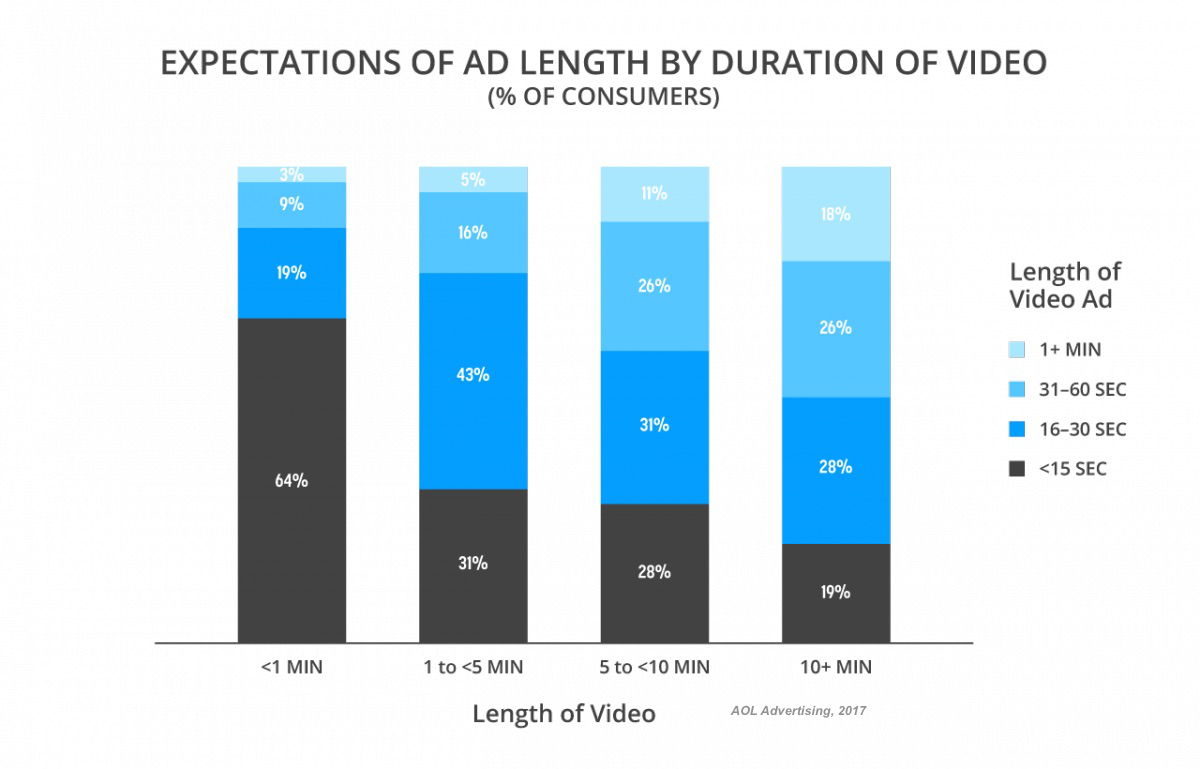latin: (158, 42, 1048, 79), (1038, 339, 1129, 440), (1007, 259, 1126, 311), (470, 702, 657, 730), (520, 85, 712, 106), (729, 702, 867, 718), (1050, 457, 1108, 478), (673, 657, 712, 678), (285, 657, 324, 676), (486, 657, 524, 676), (835, 657, 873, 676), (435, 658, 458, 676), (612, 658, 634, 676)
